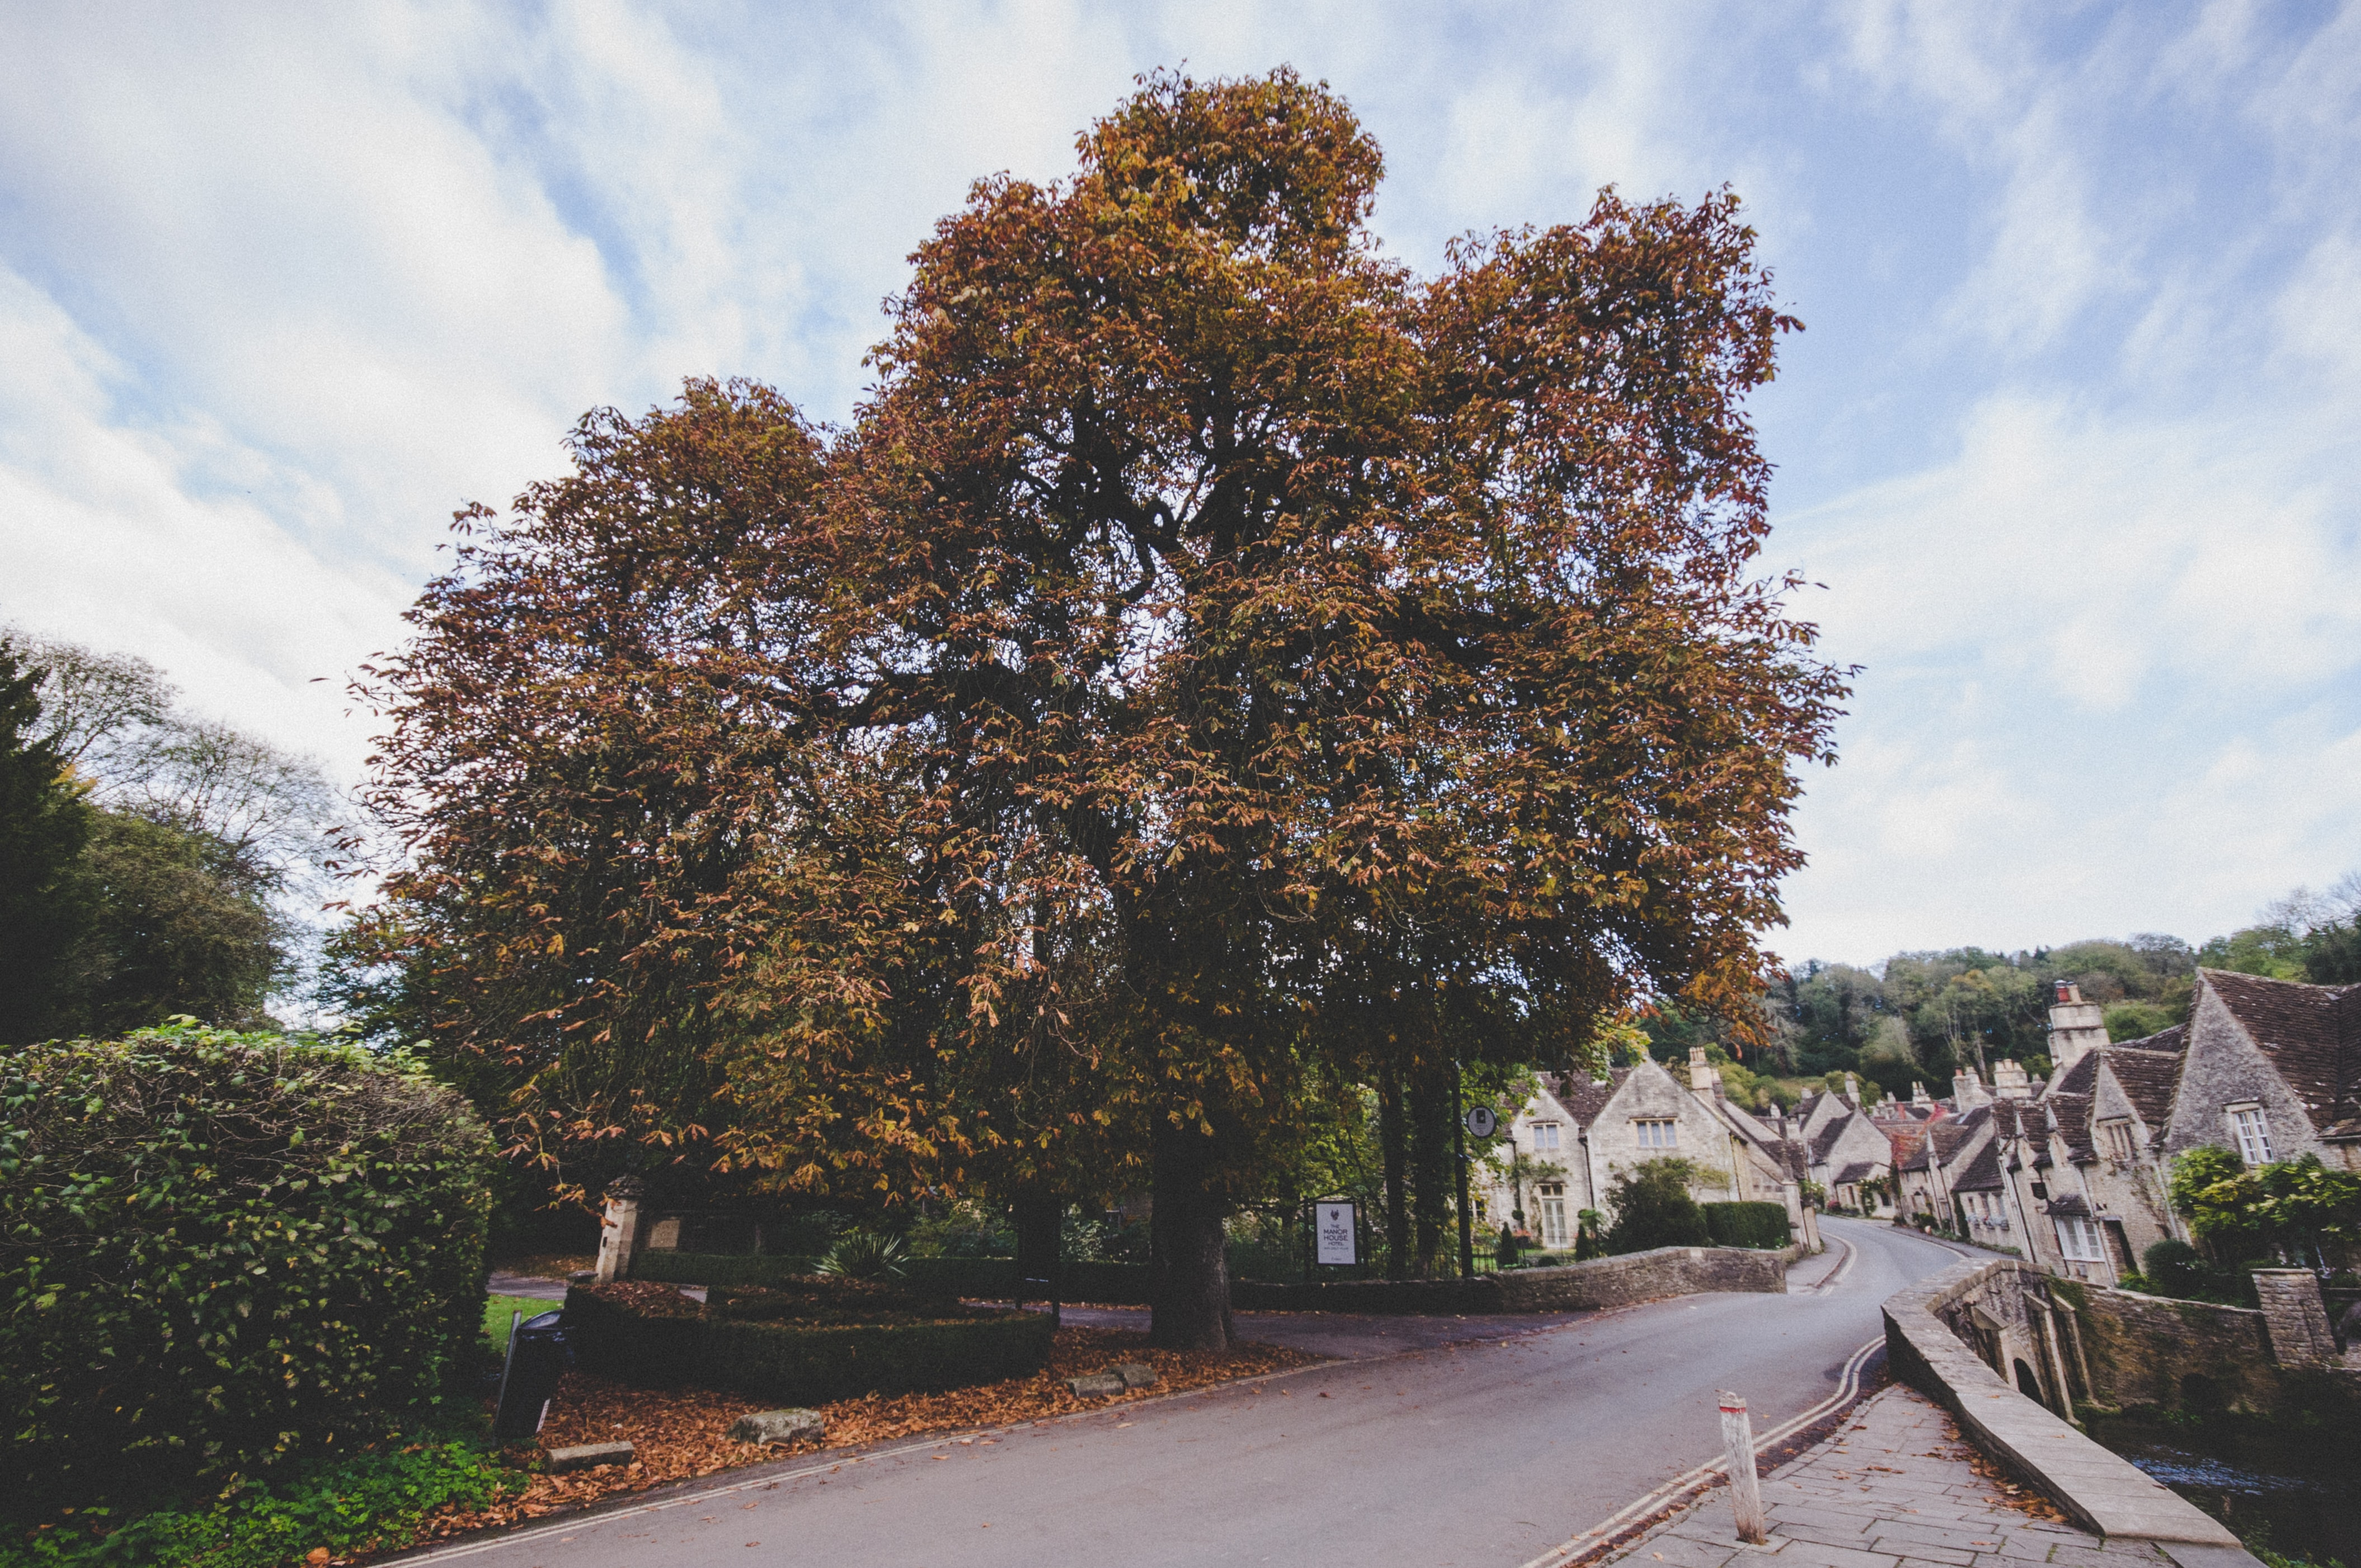tree: (772, 45, 1867, 1353), (341, 366, 828, 1279)
